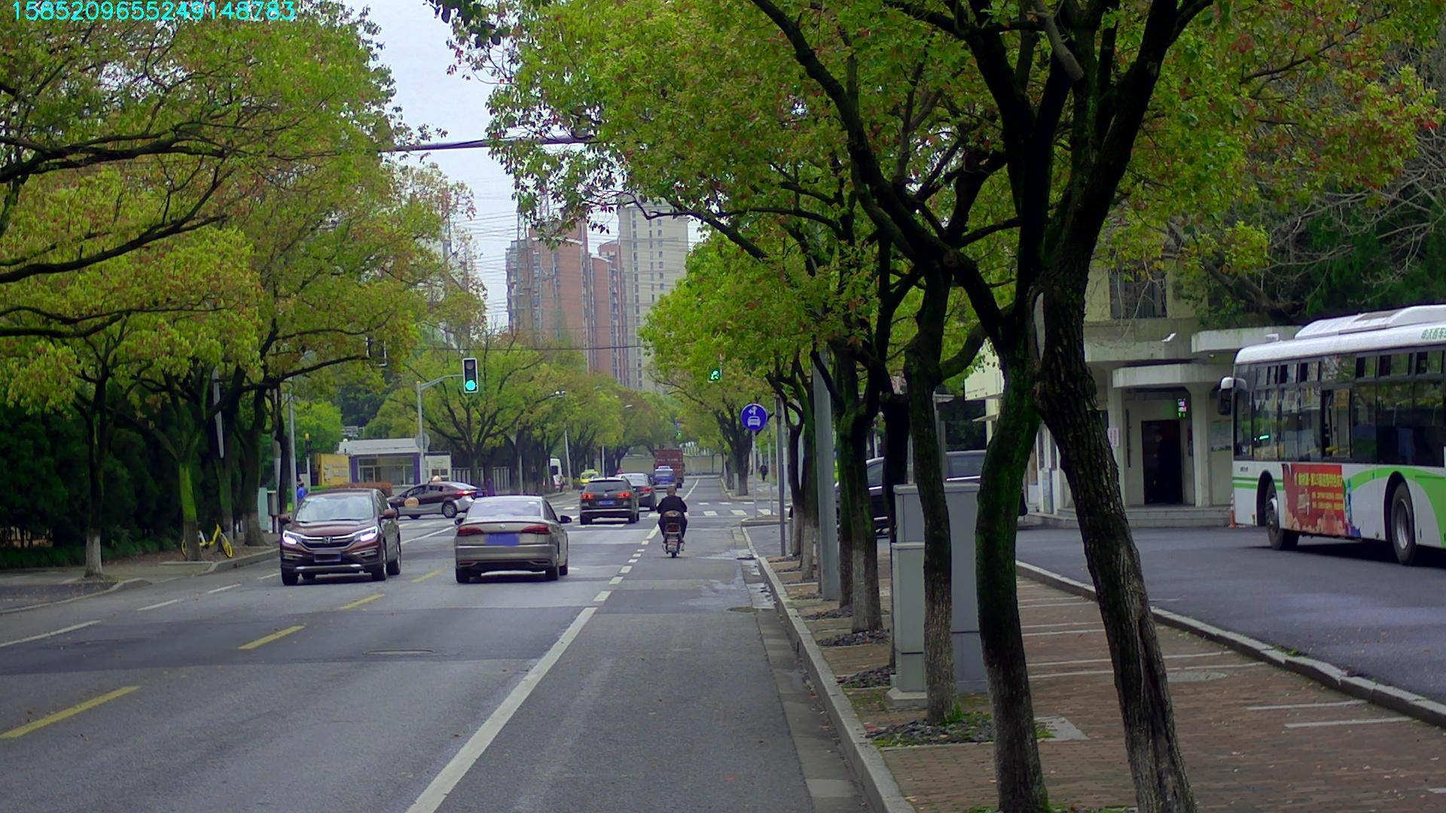green: (462, 358, 476, 391), (707, 350, 720, 382)
